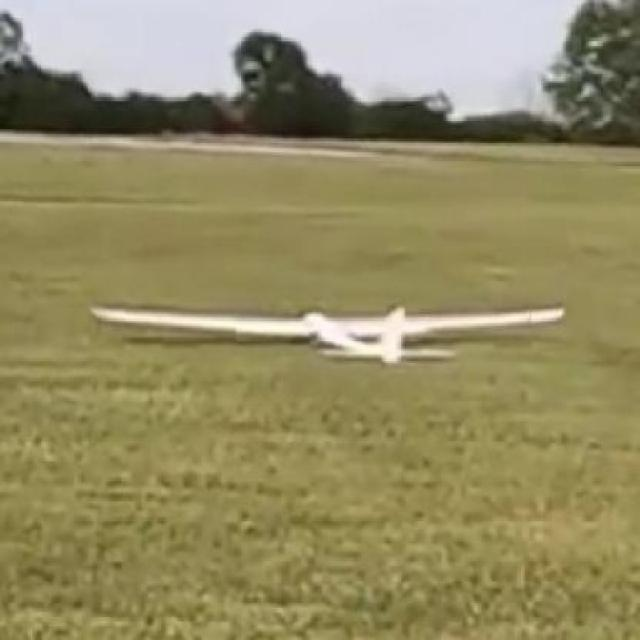iha: (82, 305, 562, 338)
